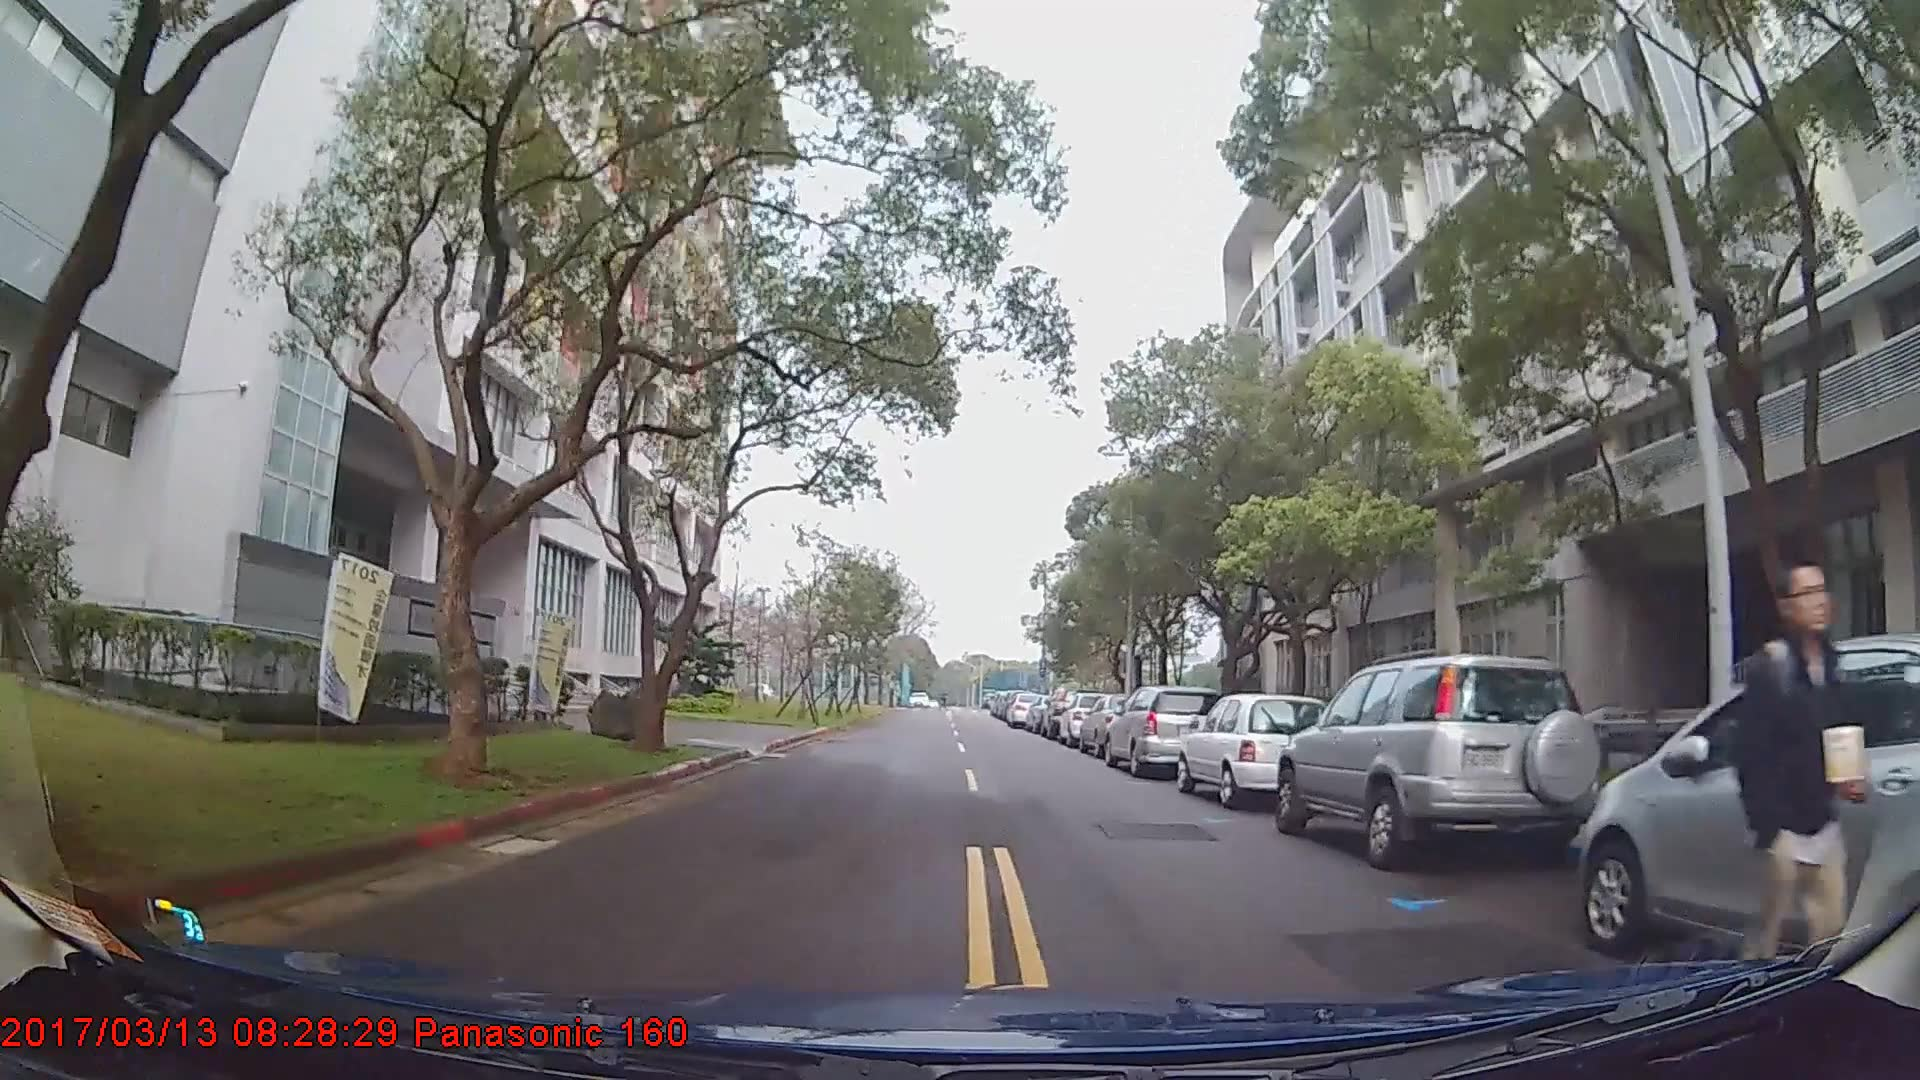pedestrian: (1733, 561, 1835, 1031)
vehicle: (1580, 631, 1920, 974), (1275, 649, 1608, 871), (1175, 692, 1333, 807), (1103, 683, 1227, 776), (1004, 689, 1046, 728)
